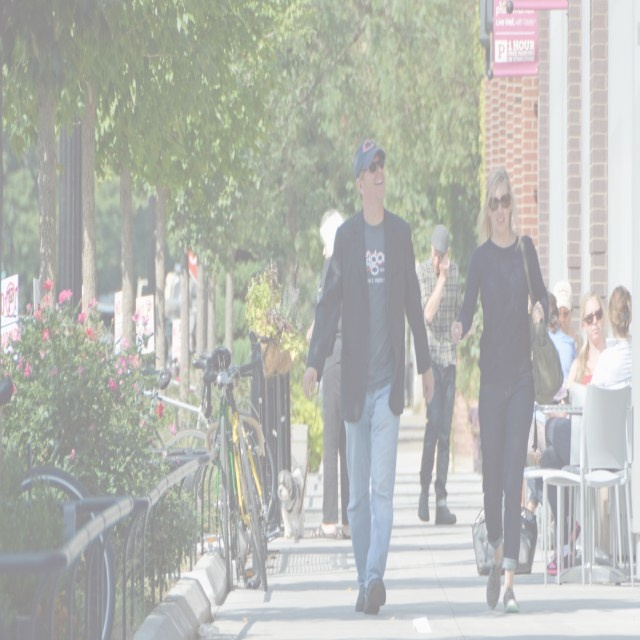pessoa: (307, 134, 437, 616), (449, 165, 552, 616), (539, 281, 639, 582), (305, 206, 352, 541), (416, 223, 467, 526), (566, 291, 608, 389), (546, 290, 578, 404), (552, 279, 584, 362)
